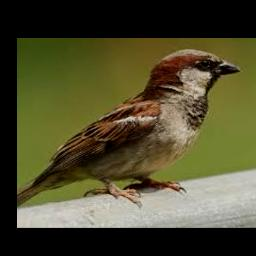Sparrow: (17, 48, 241, 208)
